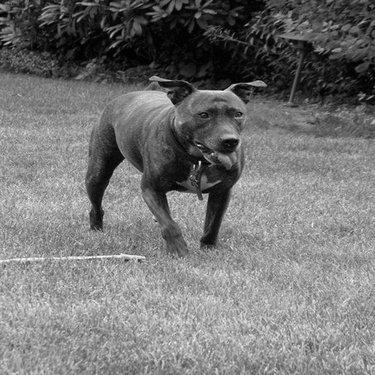dog: (78, 66, 273, 261)
